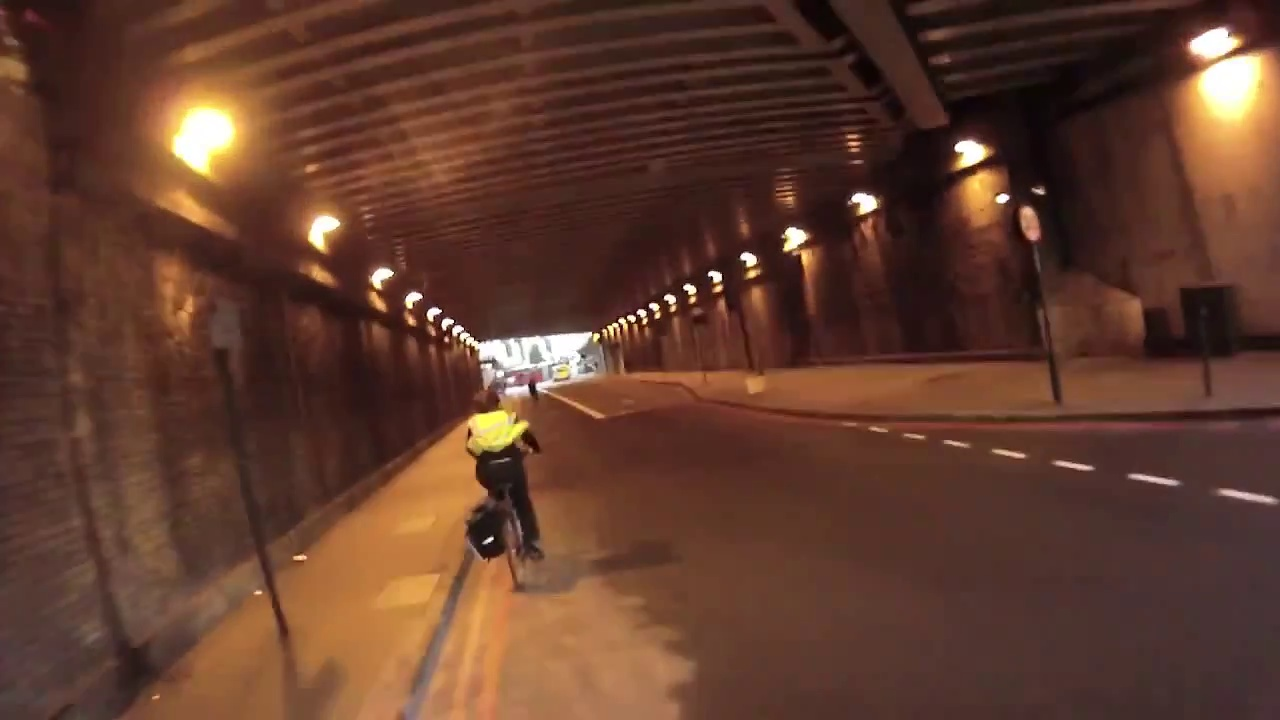cyclist_back: (462, 385, 554, 590)
